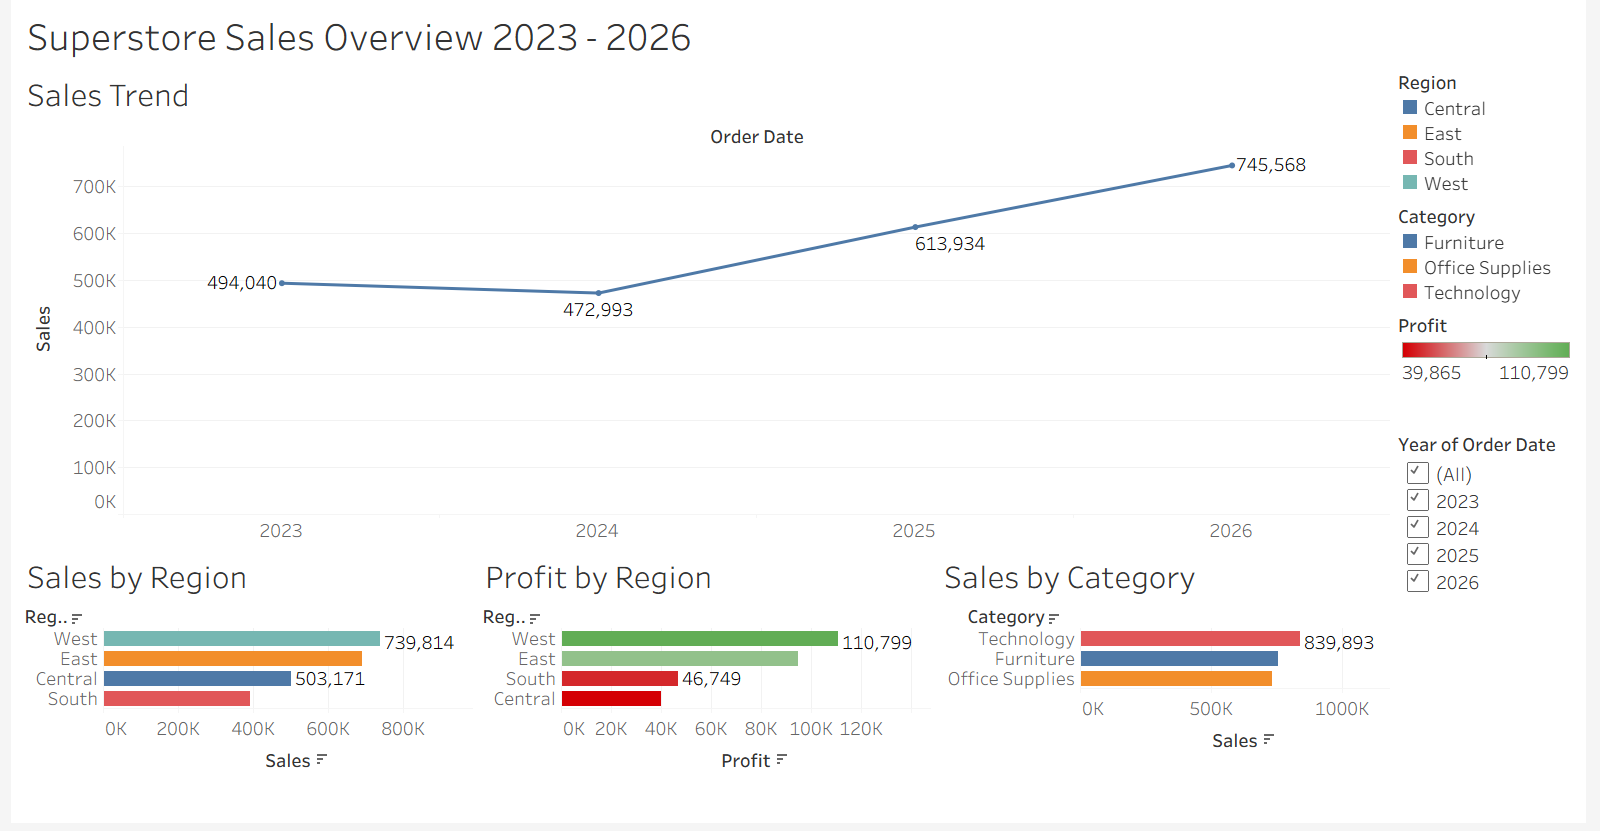

The dashboard page shown, as its layout file describes it:
{"tool":"tableau","page":{"name":"Dashboard 2","canvas":[1000,1000],"units":"permille","ordinal":0},"visuals":[{"type":"title","box":[5.1,9.7,989.8,70.4]},{"type":"worksheet","title":"Sales Trend","mark":"Automatic","rows":["Sales"],"cols":["Order Date"],"box":[5.1,80.1,873,584.6]},{"type":"legend","title":"Sales by Region","param":"[federated.0t10jmg08oxs7h17osiaq18cdp12].[none:Region:nk]","box":[878.1,80.1,116.8,162.6]},{"type":"legend","title":"Sales by Category","param":"[federated.0t10jmg08oxs7h17osiaq18cdp12].[none:Category:nk]","box":[878.1,242.7,116.8,132.3]},{"type":"legend","title":"Profit by Region","param":"[federated.0t10jmg08oxs7h17osiaq18cdp12].[sum:Profit:qk]","box":[878.1,375,116.8,144.4]},{"type":"filter","title":"Sales Trend","param":"[federated.0t10jmg08oxs7h17osiaq18cdp12].[yr:Order Date:ok]","box":[878.1,519.4,116.8,256.1]},{"type":"worksheet","title":"Sales by Region","mark":"Automatic","rows":["Region"],"cols":["Sales"],"box":[5.1,664.7,291,325.6]},{"type":"worksheet","title":"Profit by Region","mark":"Automatic","rows":["Region"],"cols":["Profit"],"box":[296.1,664.7,291,325.6]},{"type":"worksheet","title":"Sales by Category","mark":"Automatic","rows":["Category"],"cols":["Sales"],"box":[587.1,664.7,291,325.6]}]}

Visuals, with their boxes on the dashboard's canvas, which has no fixed pixel size, in thousandths of its width and height (x1, y1, x2, y2). These are canvas units, not pixel positions in the 1600x831 screenshot, which may show the page scaled, cropped or inside an application window:
title: {"left": 5, "top": 10, "right": 995, "bottom": 80}
"Sales Trend" worksheet: {"left": 5, "top": 80, "right": 878, "bottom": 665}
"Sales by Region" legend: {"left": 878, "top": 80, "right": 995, "bottom": 243}
"Sales by Category" legend: {"left": 878, "top": 243, "right": 995, "bottom": 375}
"Profit by Region" legend: {"left": 878, "top": 375, "right": 995, "bottom": 519}
"Sales Trend" filter: {"left": 878, "top": 519, "right": 995, "bottom": 776}
"Sales by Region" worksheet: {"left": 5, "top": 665, "right": 296, "bottom": 990}
"Profit by Region" worksheet: {"left": 296, "top": 665, "right": 587, "bottom": 990}
"Sales by Category" worksheet: {"left": 587, "top": 665, "right": 878, "bottom": 990}
